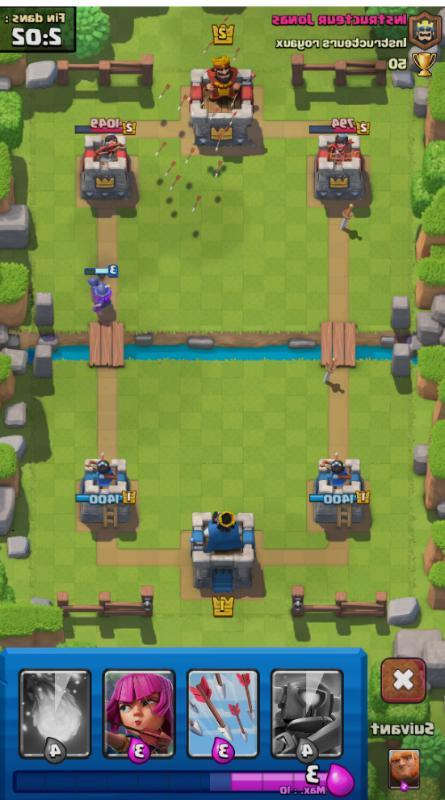player_musketeer: (80, 255, 127, 319)
